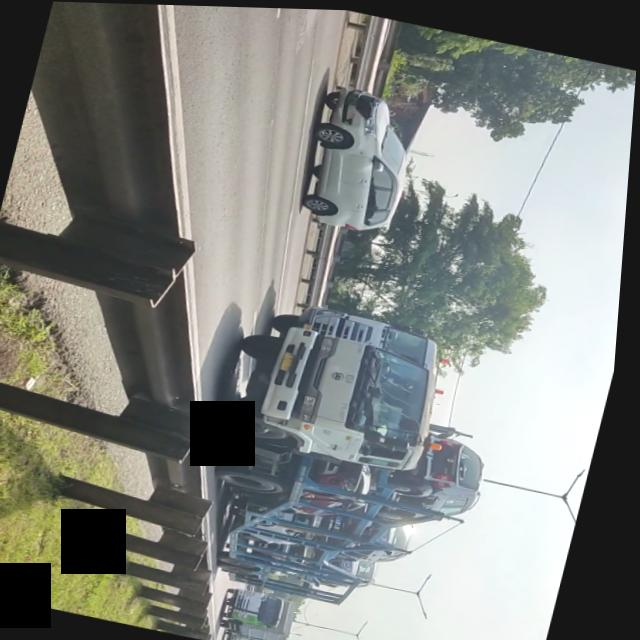Golongan I: (283, 75, 438, 244)
Golongan IV: (176, 309, 462, 614)
